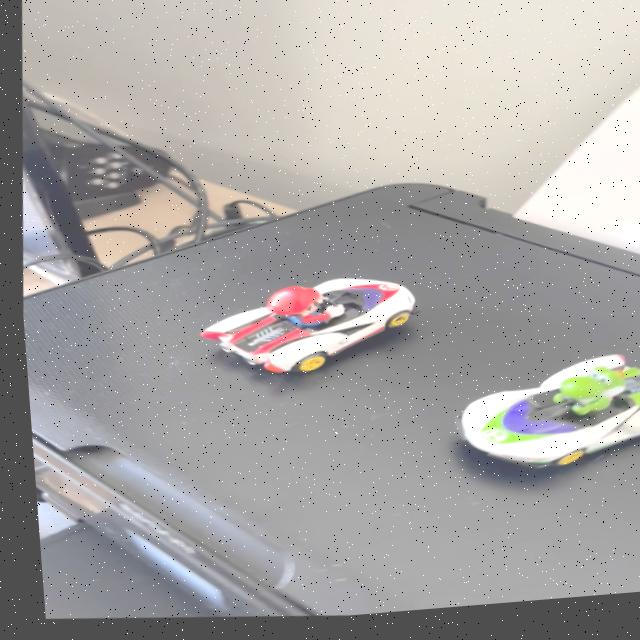mario: (172, 266, 436, 407)
yoshi: (425, 341, 640, 499)
